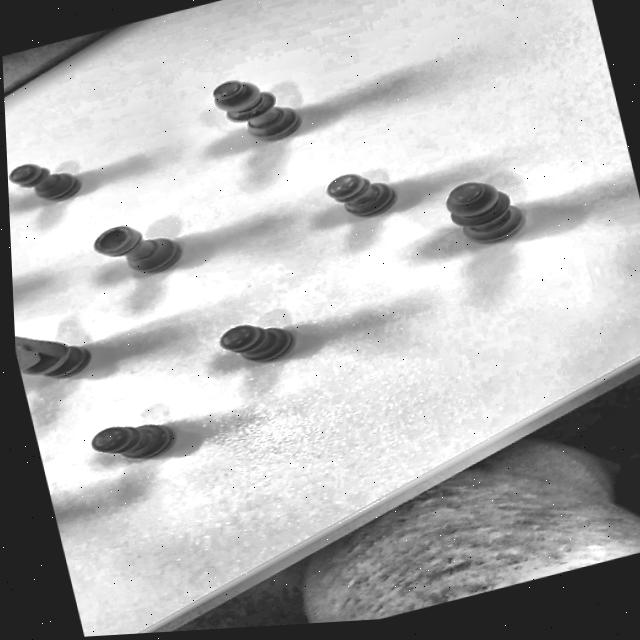black-bishop: (426, 151, 548, 262), (197, 57, 318, 167)
black-knight: (14, 301, 105, 391)
black-pawn: (62, 400, 199, 488), (199, 303, 318, 385), (308, 156, 408, 238), (7, 144, 98, 230)
black-rook: (79, 205, 198, 297)
